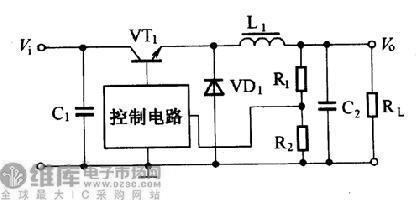cap1: (73, 105, 96, 120), (316, 99, 338, 114)
diode: (201, 77, 227, 98)
inductance: (234, 30, 289, 50)
res1: (295, 122, 310, 154), (365, 89, 380, 121), (294, 63, 309, 93)
triode: (124, 43, 166, 66)
